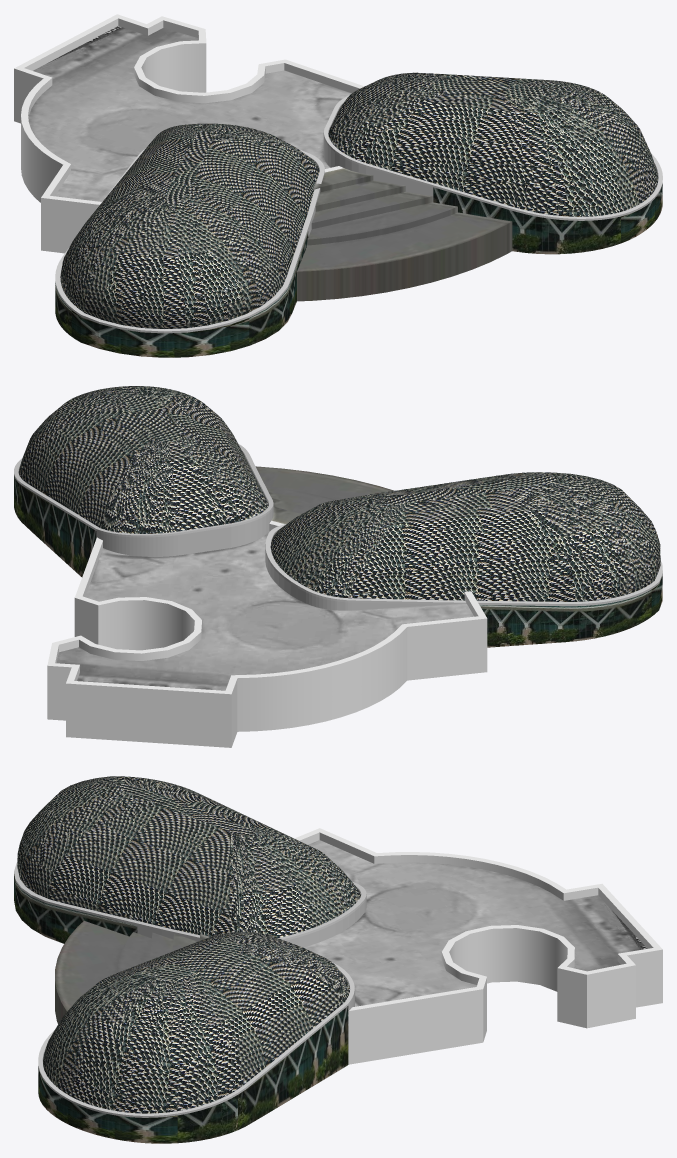
File: esplanade.glb
The picture shows the model from 3 angles, top to bottom: view 1: azimuth 30°, elevation 25°; view 2: azimuth 150°, elevation 25°; view 3: azimuth 270°, elevation 25°; orthographic projection.
Parts seen in each view (by area): view 1: group_1, group_3, group_2.006, group_2, group_2.002, group_3.008, group_2.004, group_3.007, group_1.006, group_1.003, group_1.005, group_1.004 (+1 smaller); view 2: group_1, group_2.002, group_3, group_2.006, group_1.002, group_3.007, group_2, group_1.003, group_3.010, group_2.004, group_3.001; view 3: group_1, group_3, group_2.006, group_2.002, group_2, group_2.004, group_3.010, group_1.003, group_1.005, group_3.005, group_3.007, group_3.009 (+2 smaller).
Boxes of the visible parts, x1,y1,x2,y2 form: group_1: [60, 123, 319, 328]; group_3: [328, 72, 658, 216]; group_2.006: [28, 26, 351, 201]; group_2: [297, 168, 512, 301]; group_2.002: [14, 14, 364, 253]; group_3.008: [433, 187, 620, 254]; group_2.004: [24, 18, 359, 196]; group_3.007: [323, 95, 662, 220]; group_1.006: [141, 318, 249, 357]; group_1.003: [55, 148, 324, 333]; group_1.005: [249, 230, 308, 345]; group_1.004: [71, 310, 123, 353]; group_1: [270, 472, 660, 601]; group_2.002: [47, 520, 487, 747]; group_3: [18, 386, 268, 533]; group_2.006: [57, 531, 473, 690]; group_1.002: [479, 589, 651, 647]; group_3.007: [14, 444, 273, 556]; group_2: [255, 466, 394, 523]; group_1.003: [265, 524, 662, 610]; group_3.010: [26, 488, 72, 568]; group_2.004: [55, 541, 478, 680]; group_3.001: [73, 517, 96, 577]; group_1: [17, 776, 360, 937]; group_3: [43, 931, 349, 1113]; group_2.006: [304, 840, 647, 1006]; group_2.002: [294, 828, 662, 1064]; group_2: [55, 921, 209, 1023]; group_2.004: [299, 832, 653, 984]; group_3.010: [252, 1032, 316, 1122]; group_1.003: [14, 862, 366, 947]; group_1.005: [15, 882, 137, 943]; group_3.005: [177, 1085, 251, 1143]; group_3.007: [38, 962, 354, 1117]; group_3.009: [96, 1111, 177, 1143].
Bounding box in the file's own units: 18.88 × 3.36 × 17.58.
Materials: 7 (5 with a texture image).
